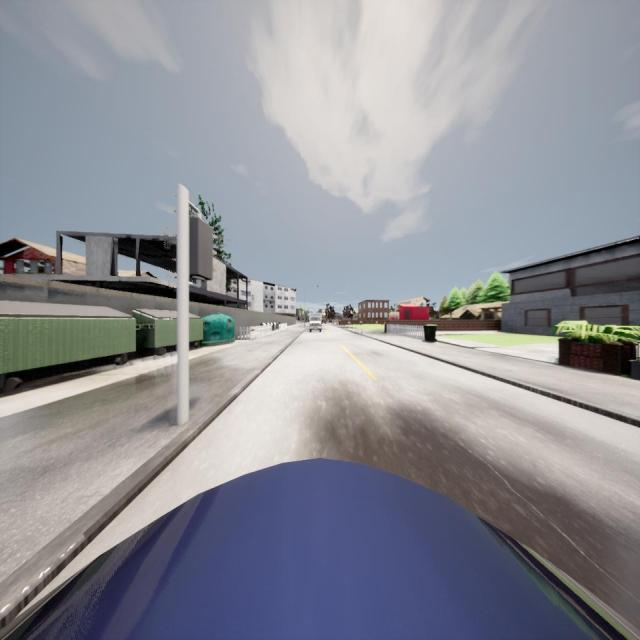Vehicle: (0, 454, 640, 640), (308, 312, 322, 333)
traffic_light: (188, 203, 215, 289)
